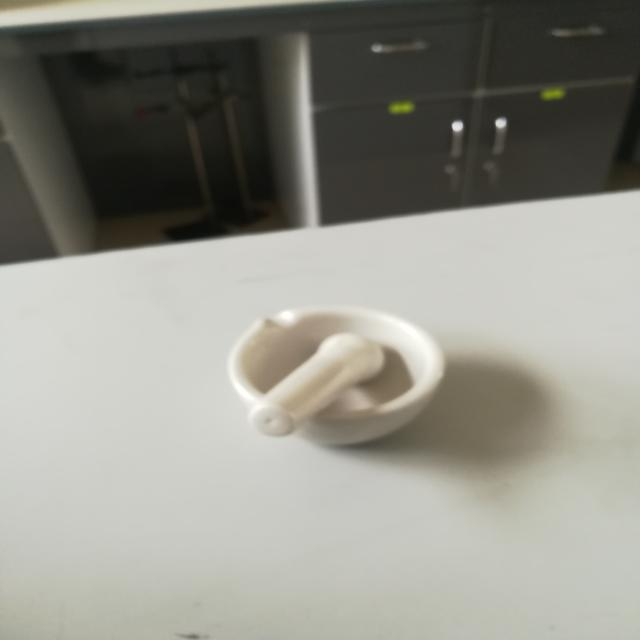Porcelain_Mortar Pestle: (202, 267, 488, 484)
